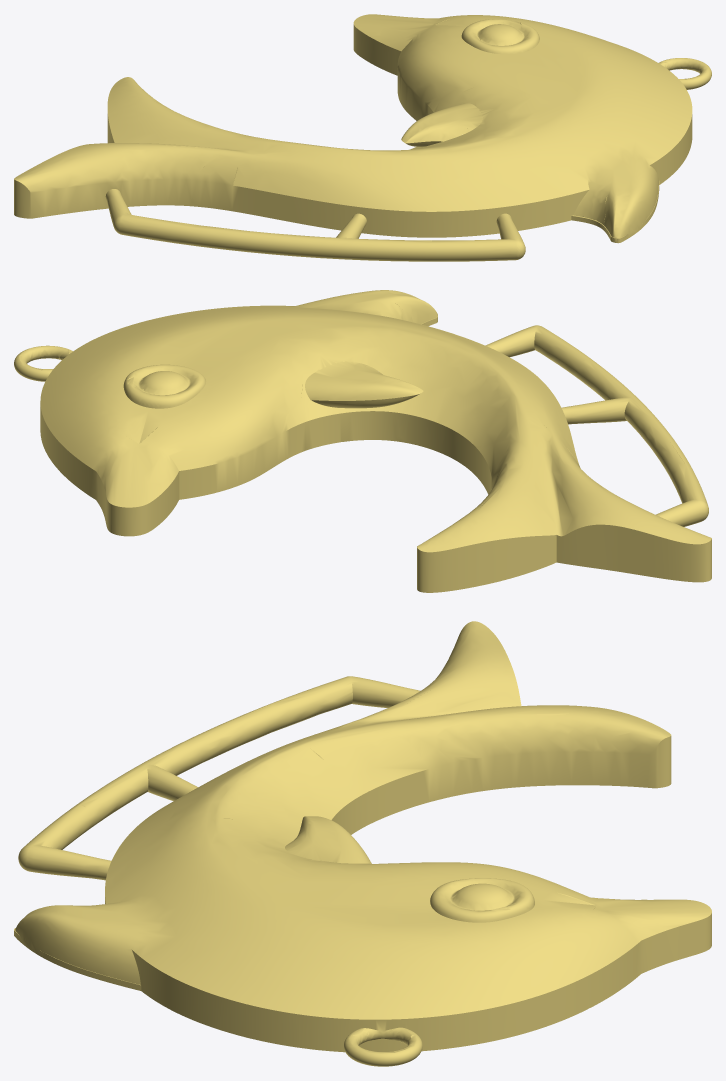
The model's file is yunus.glb.
The picture shows the model from 3 angles, top to bottom: view 1: azimuth 30°, elevation 25°; view 2: azimuth 150°, elevation 25°; view 3: azimuth 270°, elevation 25°; orthographic projection. The views are drawn at different scales.
Visible parts, largest first — view 1: Renderer Node; view 2: Renderer Node; view 3: Renderer Node.
Part boxes in pixels (<box>): Renderer Node: <box>14,14,711,261</box>; Renderer Node: <box>14,290,711,592</box>; Renderer Node: <box>14,621,711,1066</box>.
Size of the model in its own units: 53.39 by 5.19 by 38.1.
